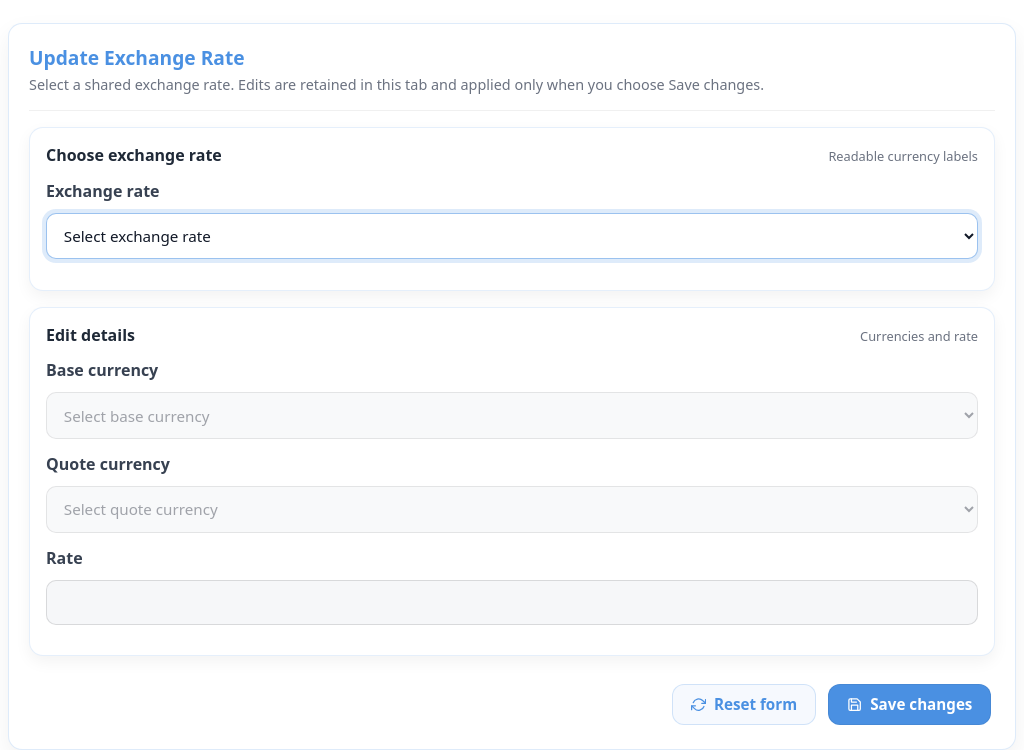
Scenario: changed server data blocks saving and retains the edited quote
Select "SEK → EUR | rate: 0.08 | id: 7" in the dropdown labelled "Exchange rate". click: (512, 236)
box: [46,213,978,259]
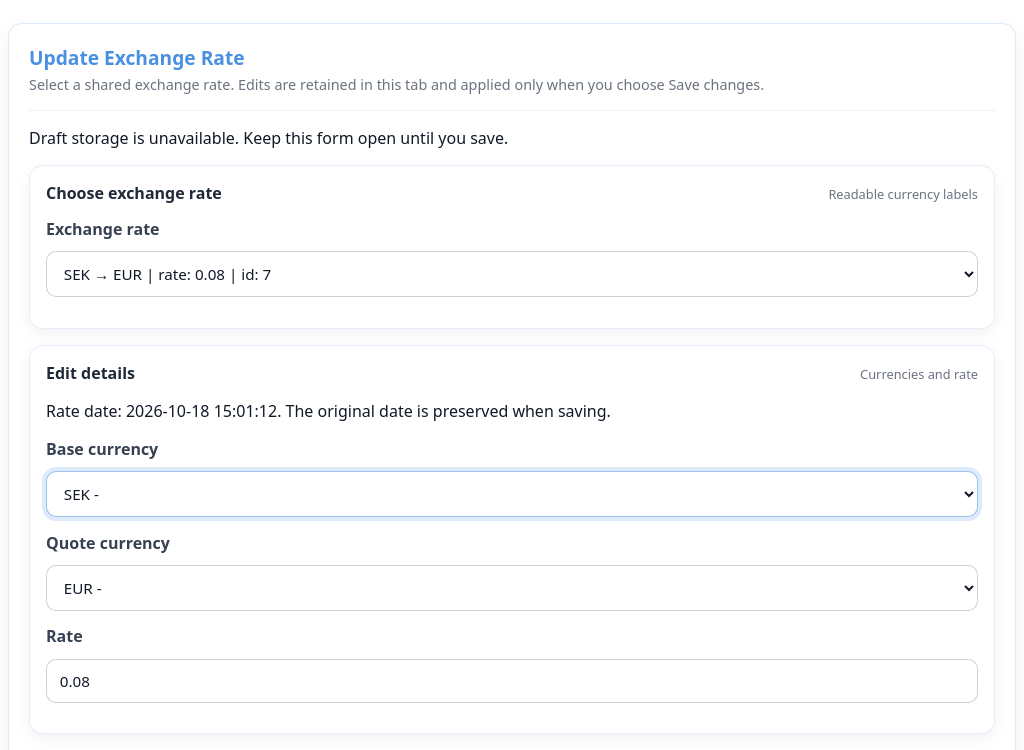
Select "GBP -" in the dropdown labelled "Quote currency". click: (512, 588)
box: [46,565,978,611]
(page scrolled)
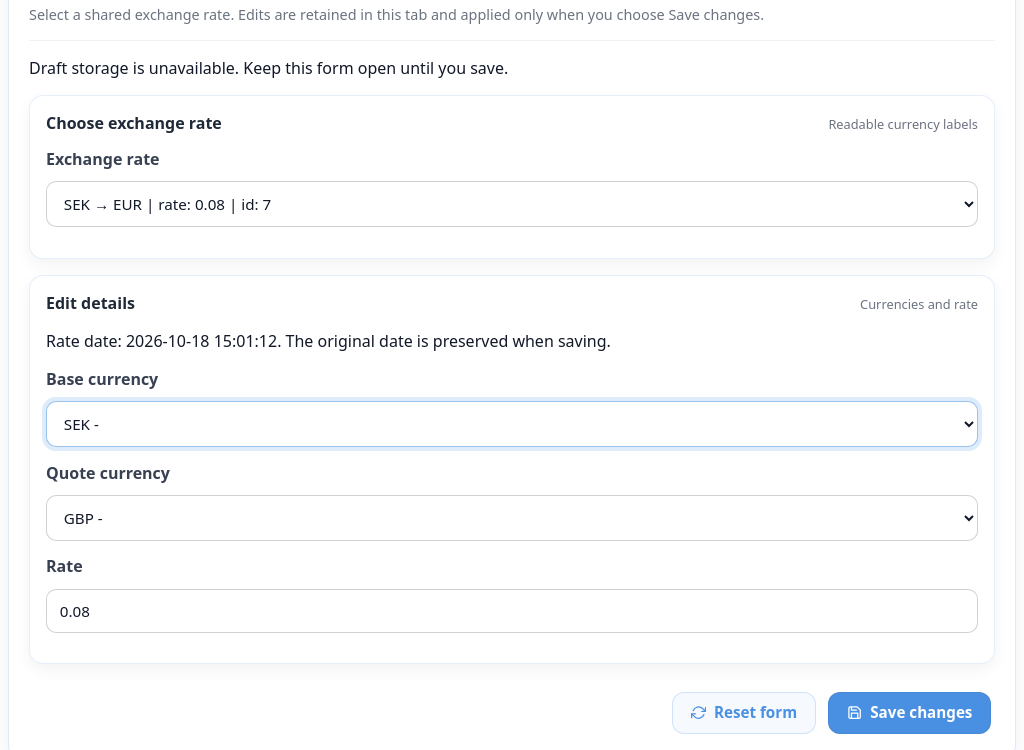
Click the button "Save changes". click: (910, 713)
box: [828,692,991,734]
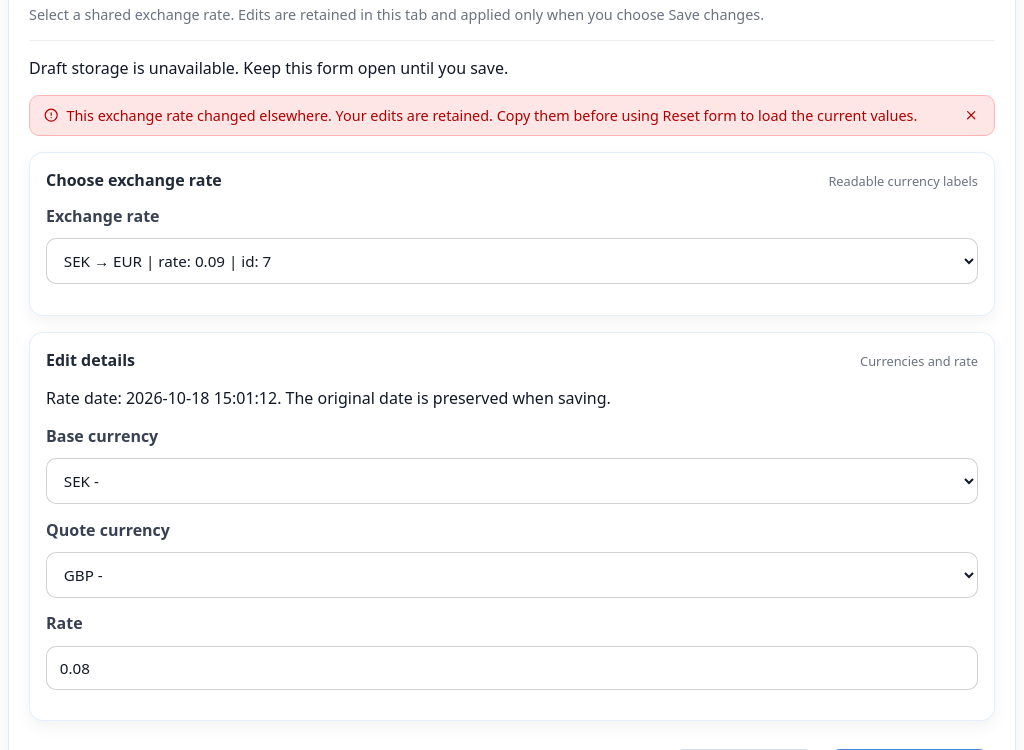
Expected: the text "This exchange rate changed elsewhere" is shown, [66,106,917,125]
